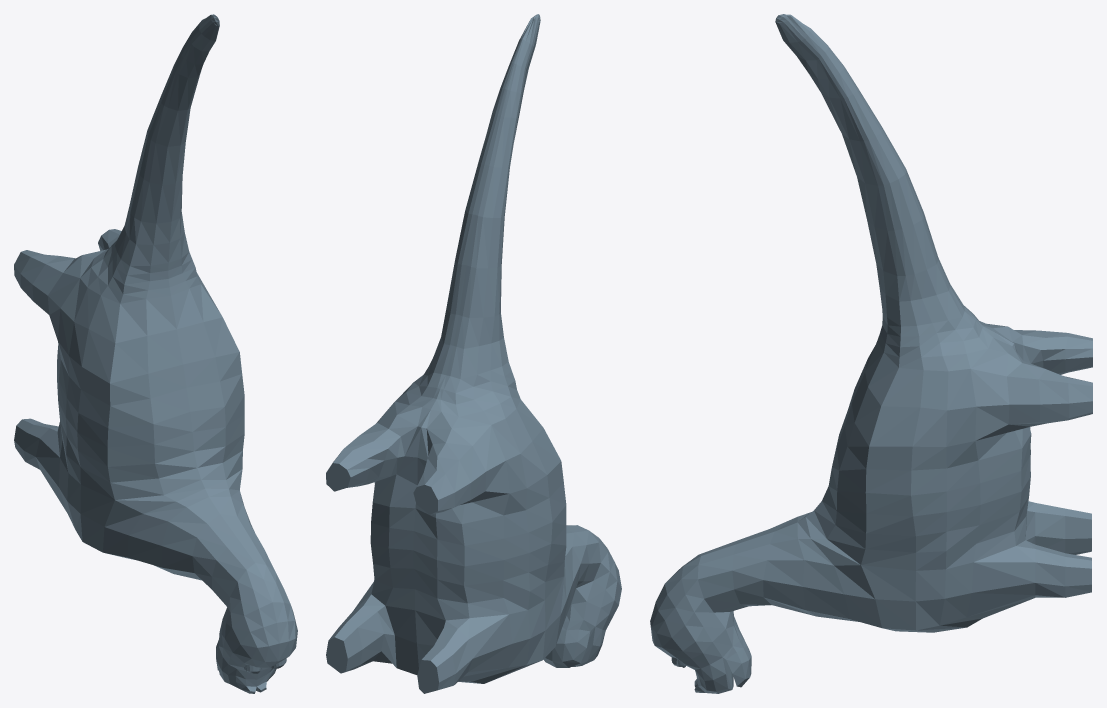
Rendered from dino.glb.
3 views of the same model, side by side, from view 1: azimuth 30°, elevation 25°; view 2: azimuth 150°, elevation 25°; view 3: azimuth 270°, elevation 25° (orthographic). The views are drawn at different scales.
Visible parts, largest first — view 1: dino.obj; view 2: dino.obj; view 3: dino.obj.
Boxes of the visible parts, x1,y1,x2,y2 form: dino.obj: (14, 14, 297, 693); dino.obj: (326, 14, 621, 693); dino.obj: (650, 14, 1092, 693).
Size of the model in its own units: 0.4949 by 2 by 1.19.
